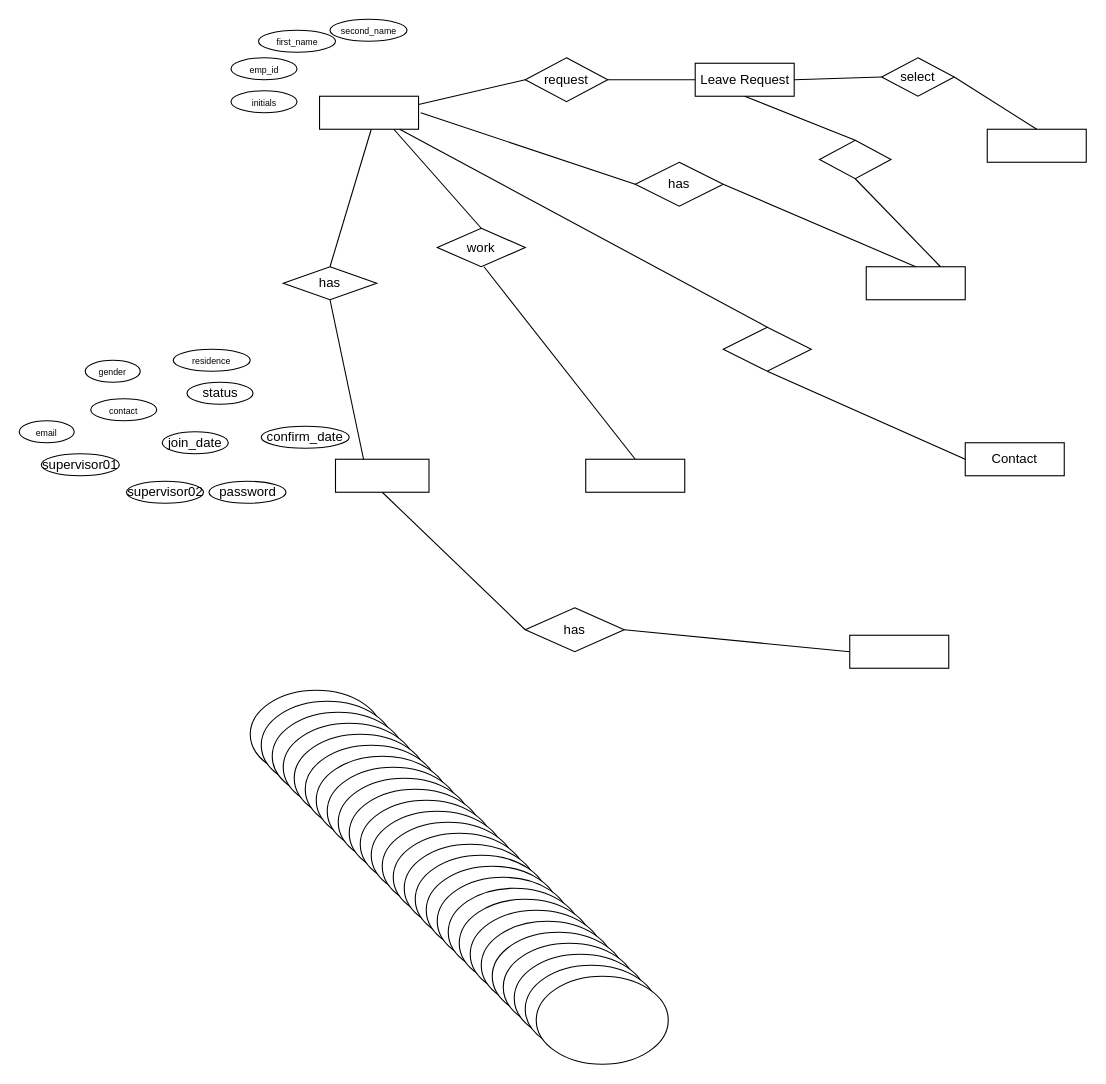
The diagram is 1106 pixels wide and 1084 high, and some of its shapes have lost their labels. The centre of each missing label's shape, as x and y in pixels:
"count" goes at (854,159).
"Department" goes at (635,475).
"emergency" goes at (766,348).
"Employee" goes at (368,112).
"Leave Count" goes at (915,283).
"Leave Type" goes at (1036,145).
"Privilage" goes at (899,651).
"Role" goes at (381,475).
